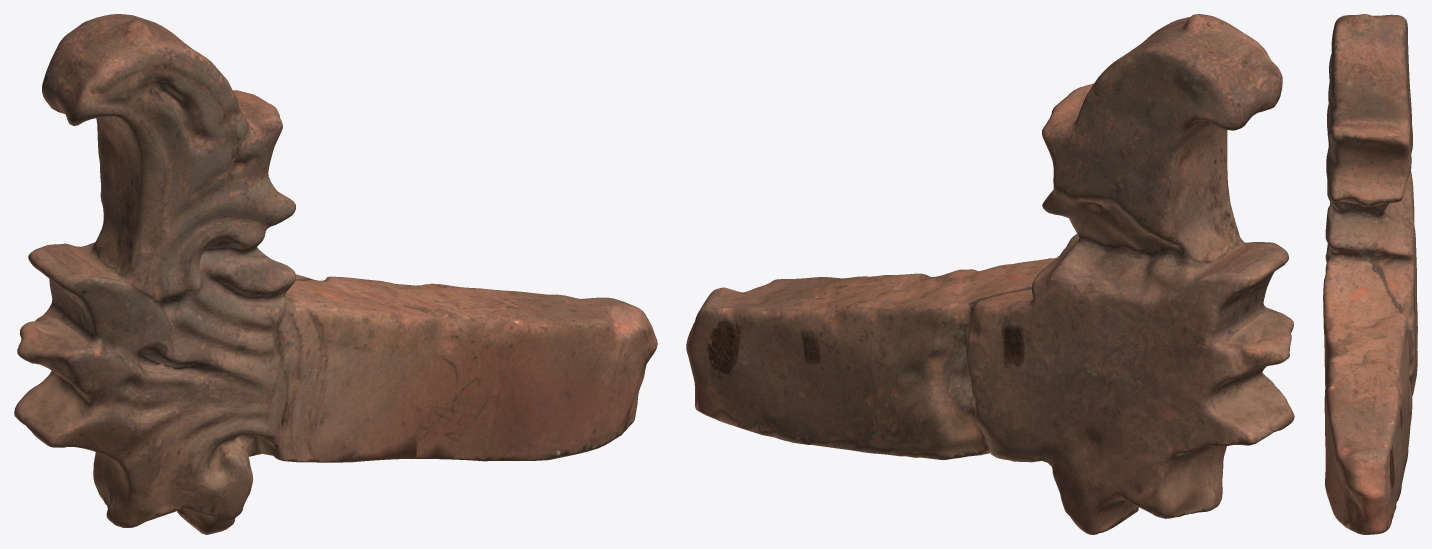
The model's file is MysonMuseum_hoavanhoaco_final.glb.
3 views of the same model, side by side, from view 1: azimuth 30°, elevation 25°; view 2: azimuth 150°, elevation 25°; view 3: azimuth 270°, elevation 25° (orthographic). The views are drawn at different scales.
Size of the model in its own units: 0.3411 by 0.2754 by 0.0656.
Materials: 1 (1 with a texture image).
